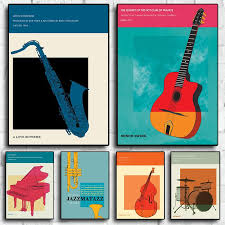Piano: (8, 159, 64, 215)
Saxophone: (5, 33, 120, 152), (60, 143, 92, 201)
